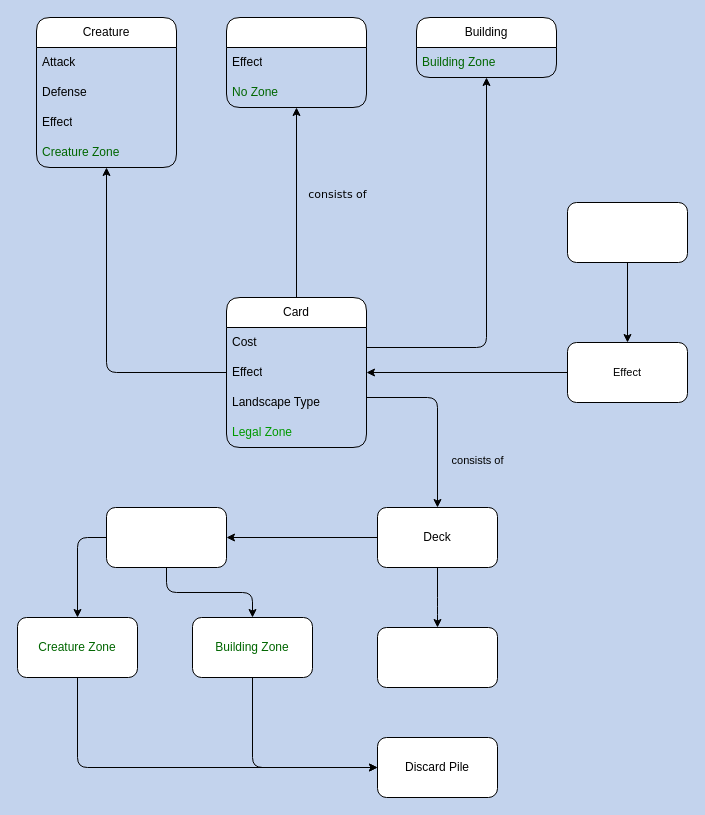
The diagram is 705 pixels wide and 815 high, and some of its shapes have lost their labels. The shapes that lost their labels are listed below. From the top down, each one's box as (x1, y1, x2, y2) in pixels, then its label:
(226, 16, 366, 108): Spell
(566, 202, 688, 262): Floop
(106, 506, 226, 568): Hand
(376, 626, 498, 688): Deck Pile
